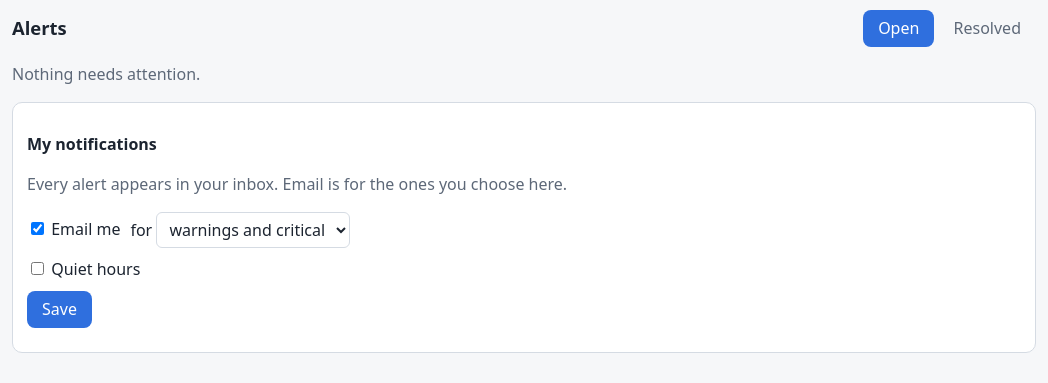
Alerts page › saves quiet hours with the member's preferences
This screenshot has width=1048, height=383.
Expected: the text "Nothing needs attention." is shown, [12,63,200,85]
Click the checkbox labelled "Quiet hours". click: click(38, 268)
box: [31,262,44,275]
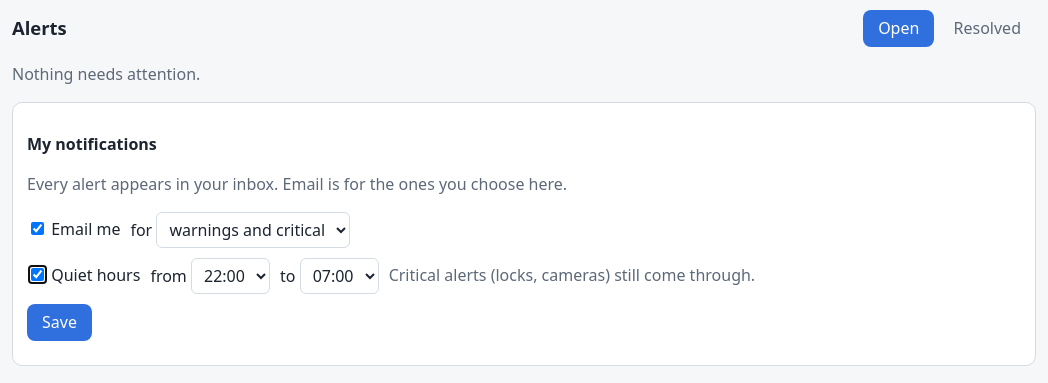
Click the button "Save". click: click(59, 322)
box: [27,304,92,341]
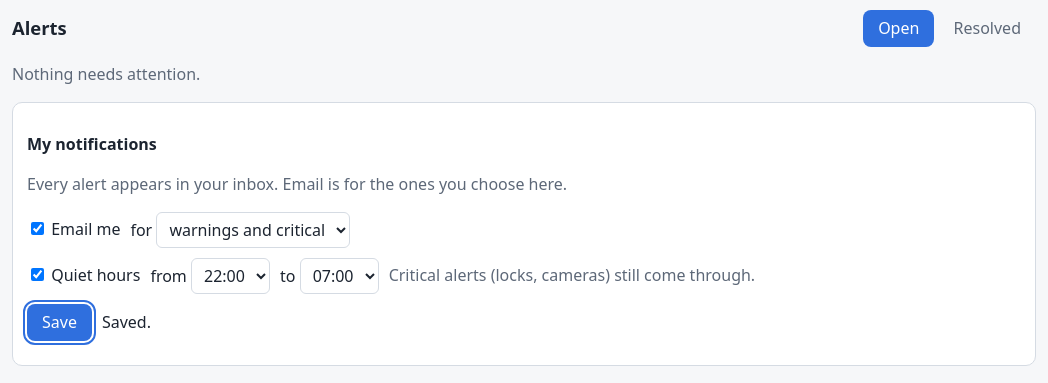
Expected: the text "Saved." is shown, [102,311,151,334]
